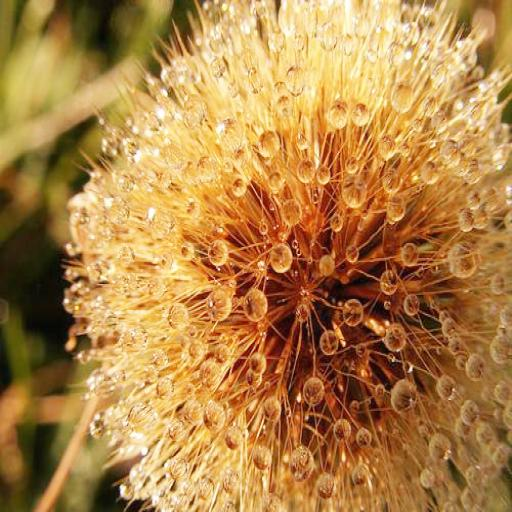dandelion: (5, 0, 510, 512)
